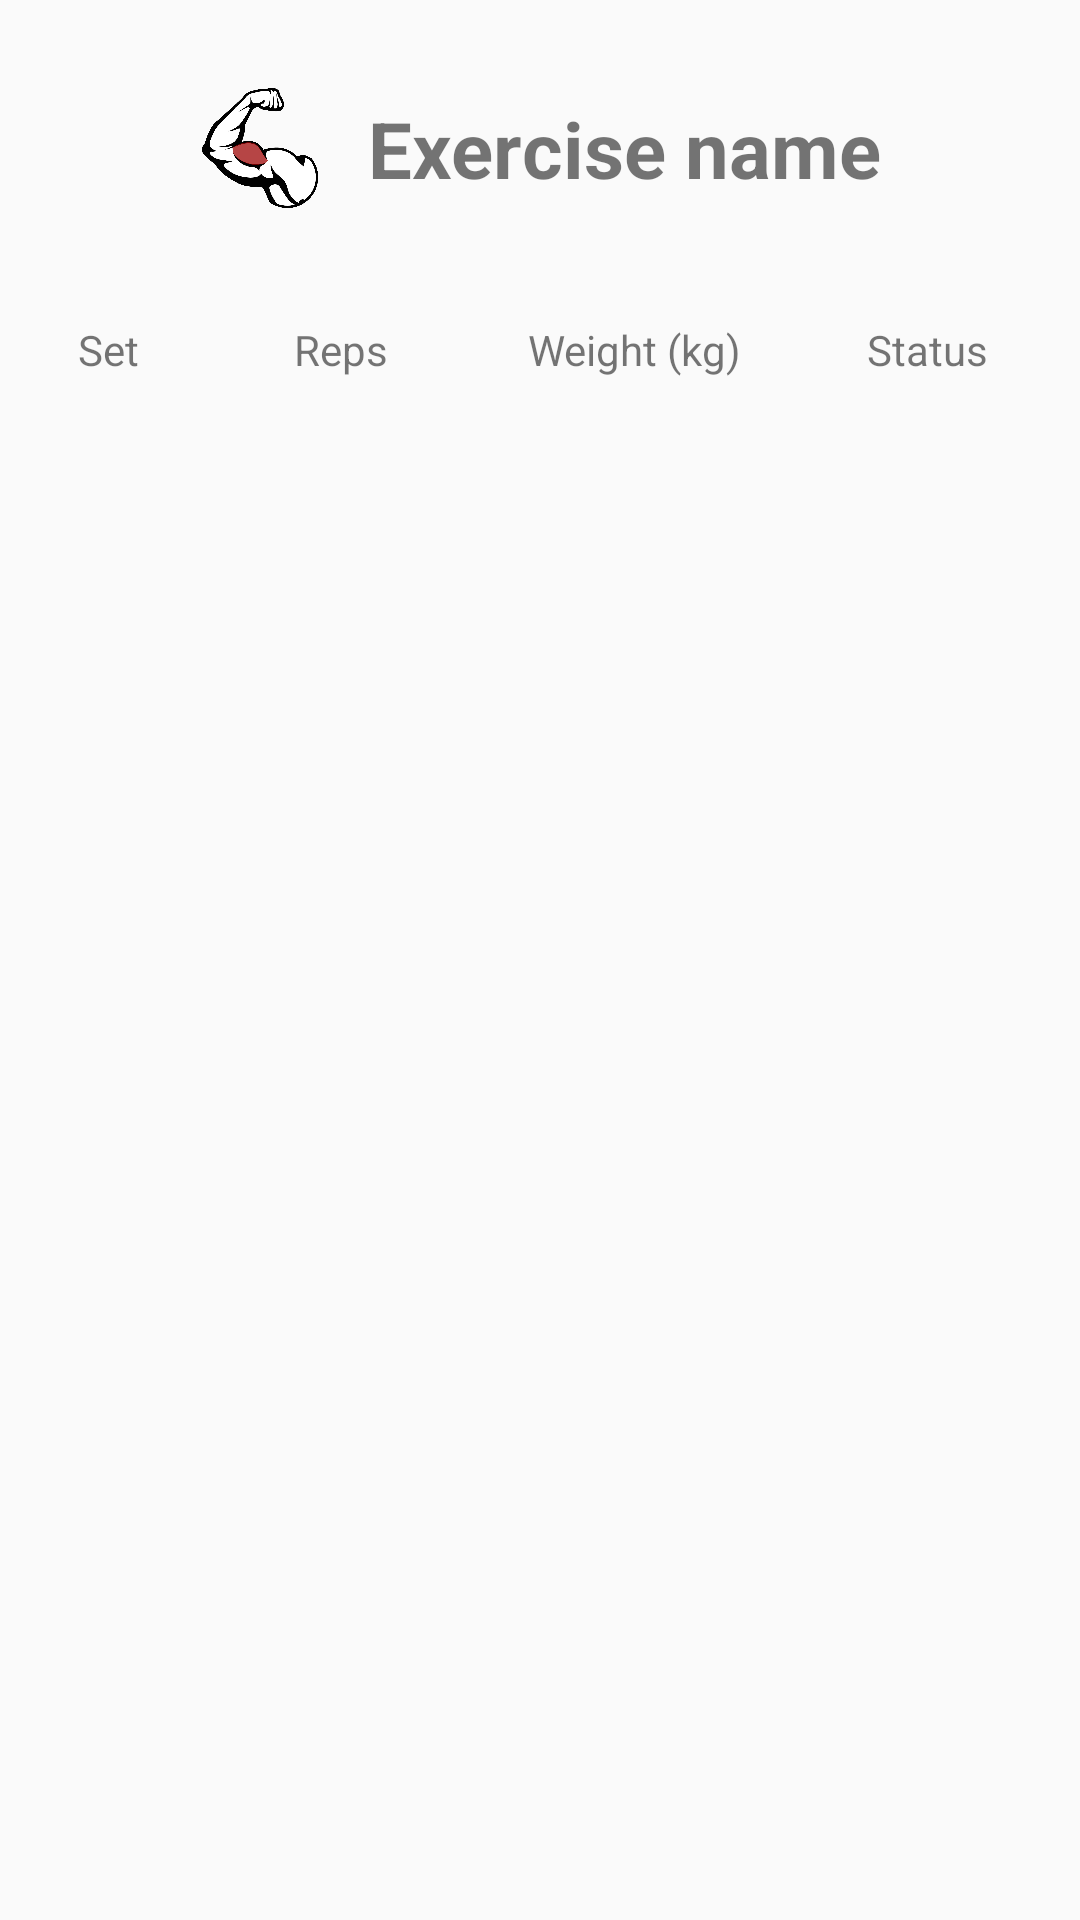

Where to tap for icons on this 1080*1920 app screen, as point (x, y):
biceps mg: point (260, 148)
